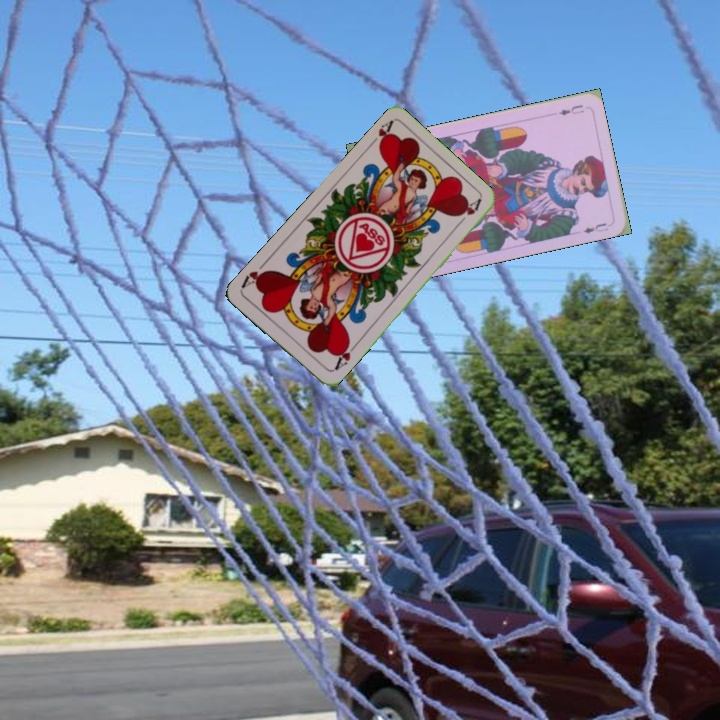EU: (555, 101, 586, 118)
HA: (328, 338, 359, 374), (364, 117, 395, 151)
